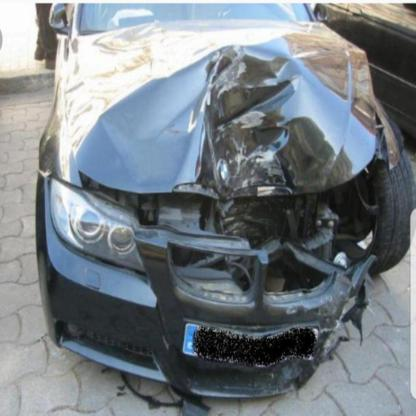front_bumper: (36, 173, 338, 396)
headlamp: (50, 176, 146, 273)
hood: (67, 21, 377, 202)
